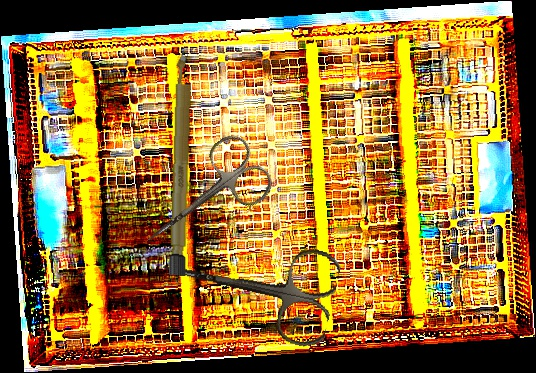Iris Scissors: (152, 217, 344, 352), (124, 128, 280, 270)
Scalpel Handle: (168, 53, 194, 276)
